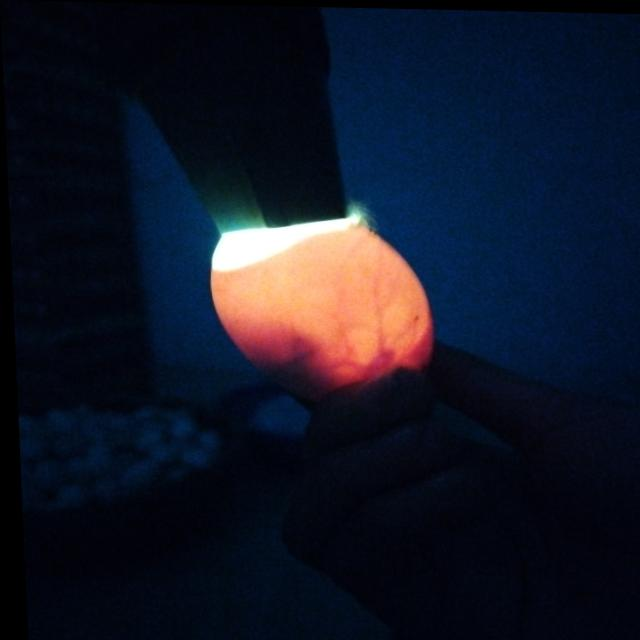Embriao: (231, 324, 430, 405)
